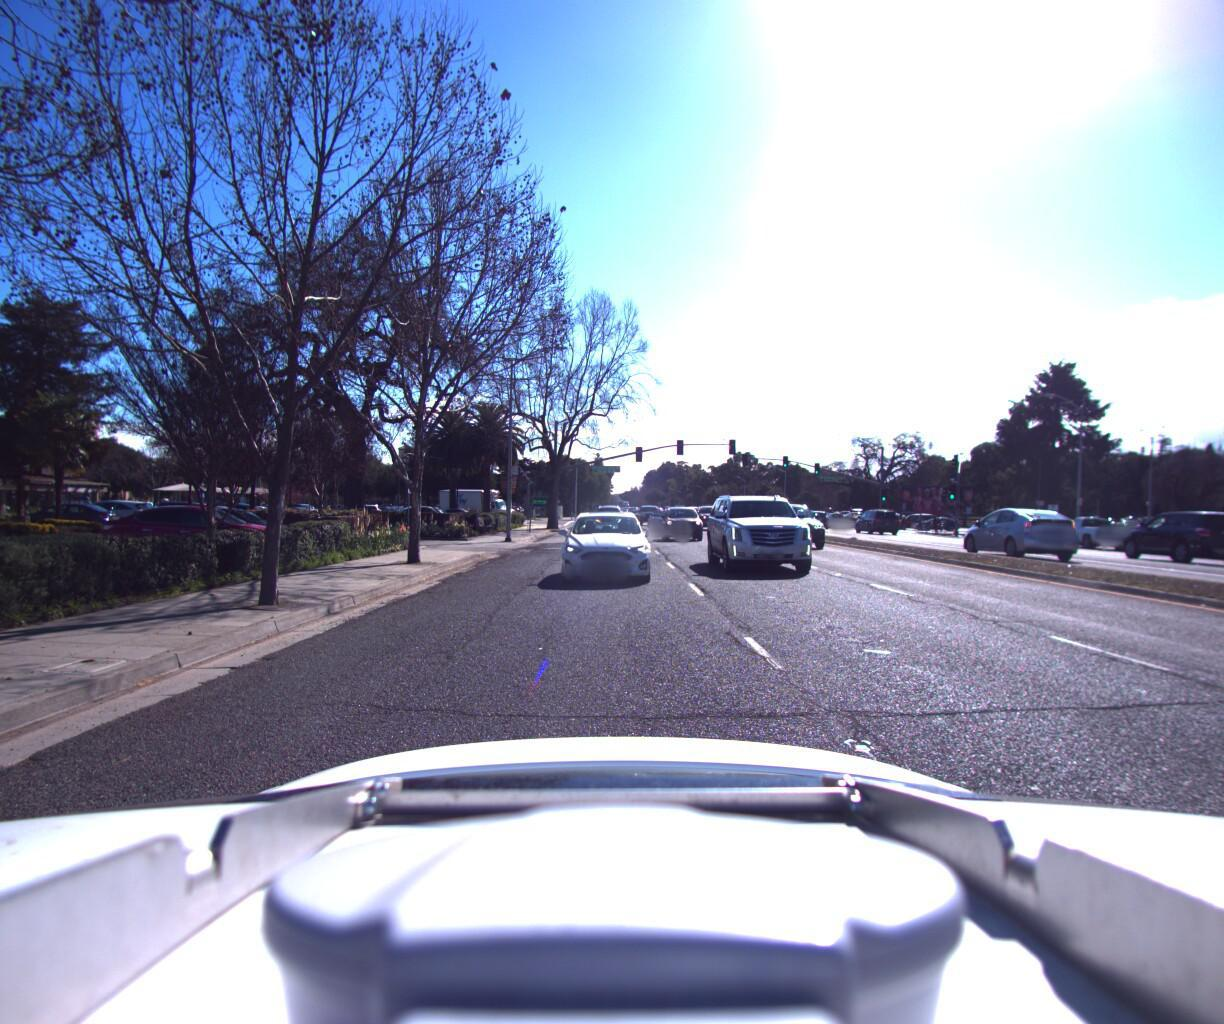bicycle: (910, 510, 932, 529)
car: (91, 499, 286, 566), (129, 500, 319, 565), (709, 486, 828, 581), (562, 509, 658, 589), (945, 508, 1075, 559), (1100, 511, 1224, 562), (763, 503, 841, 550), (1046, 511, 1138, 548), (660, 507, 705, 542), (1196, 518, 1224, 567), (848, 504, 897, 530), (638, 506, 667, 527), (817, 513, 844, 528)
truck: (437, 484, 518, 520)
